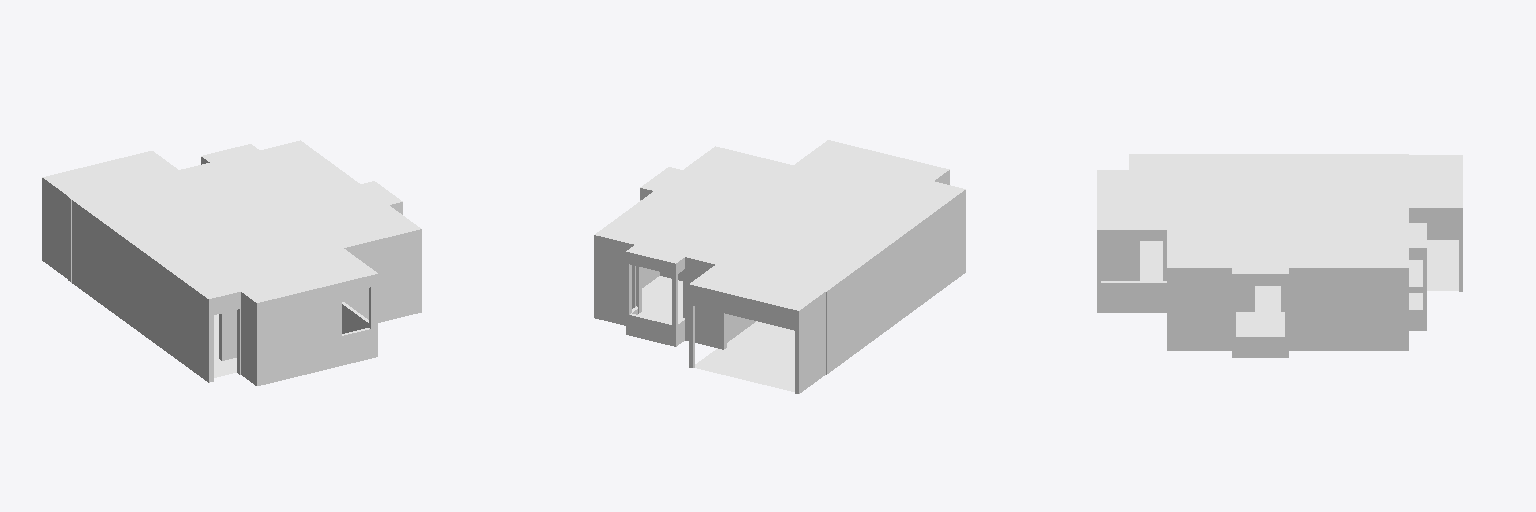
File: render.obj
The picture shows the model from 3 angles: view 1: azimuth 30°, elevation 25°; view 2: azimuth 150°, elevation 25°; view 3: azimuth 270°, elevation 25°; orthographic projection.
Parts seen in each view (by area): view 1: room_3_234, wall_1_5, room_2_232, wall_4_23, wall_30_179, room_7_242, room_1_230, wall_8_44, wall_15_86, room_5_238, room_6_240, wall_3_17 (+2 smaller); view 2: room_3_234, wall_1_5, room_2_232, room_7_242, wall_16_92, room_1_230, wall_34_200, room_1_229, wall_15_86, room_5_238, wall_11_62, room_3_233 (+4 smaller); view 3: room_3_234, wall_32_188, room_2_232, wall_6_35, room_7_242, wall_7_38, room_1_230, room_5_238, room_1_229, wall_22_128, room_6_240, room_4_236 (+8 smaller).
Boxes of the visible parts, box(x1,y1,x2,y2) form: room_3_234: box(78, 173, 296, 294); wall_1_5: box(72, 200, 208, 382); room_2_232: box(182, 144, 354, 213); wall_4_23: box(257, 284, 334, 385); wall_30_179: box(343, 229, 421, 322); room_7_242: box(284, 183, 411, 245); room_1_230: box(48, 153, 176, 195); wall_8_44: box(335, 274, 377, 366); wall_15_86: box(42, 178, 67, 278); room_5_238: box(226, 260, 327, 298); room_6_240: box(260, 220, 334, 255); wall_3_17: box(241, 292, 256, 385); room_3_234: box(723, 179, 956, 287); wall_1_5: box(830, 190, 965, 371); room_2_232: box(604, 193, 774, 261); room_7_242: box(646, 150, 790, 208); wall_16_92: box(689, 284, 798, 393); room_1_230: box(694, 265, 821, 308); wall_34_200: box(600, 236, 637, 325); room_1_229: box(695, 348, 794, 391); wall_15_86: box(799, 292, 825, 393); room_5_238: box(841, 154, 940, 193); wall_11_62: box(626, 252, 675, 346); room_3_233: box(726, 321, 794, 365); room_3_234: box(1136, 157, 1404, 226); wall_32_188: box(1289, 268, 1405, 350); room_2_232: box(1287, 208, 1422, 264); wall_6_35: box(1167, 268, 1231, 350); room_7_242: box(1173, 229, 1284, 272); wall_7_38: box(1097, 230, 1166, 312); room_1_230: box(1406, 156, 1460, 206); room_5_238: box(1104, 172, 1166, 206); room_1_229: box(1409, 240, 1458, 290); wall_22_128: box(1101, 241, 1166, 280); room_6_240: box(1173, 208, 1246, 226); room_4_236: box(1101, 208, 1166, 227).
Size of the model in its own units: 867 by 280 by 1113.